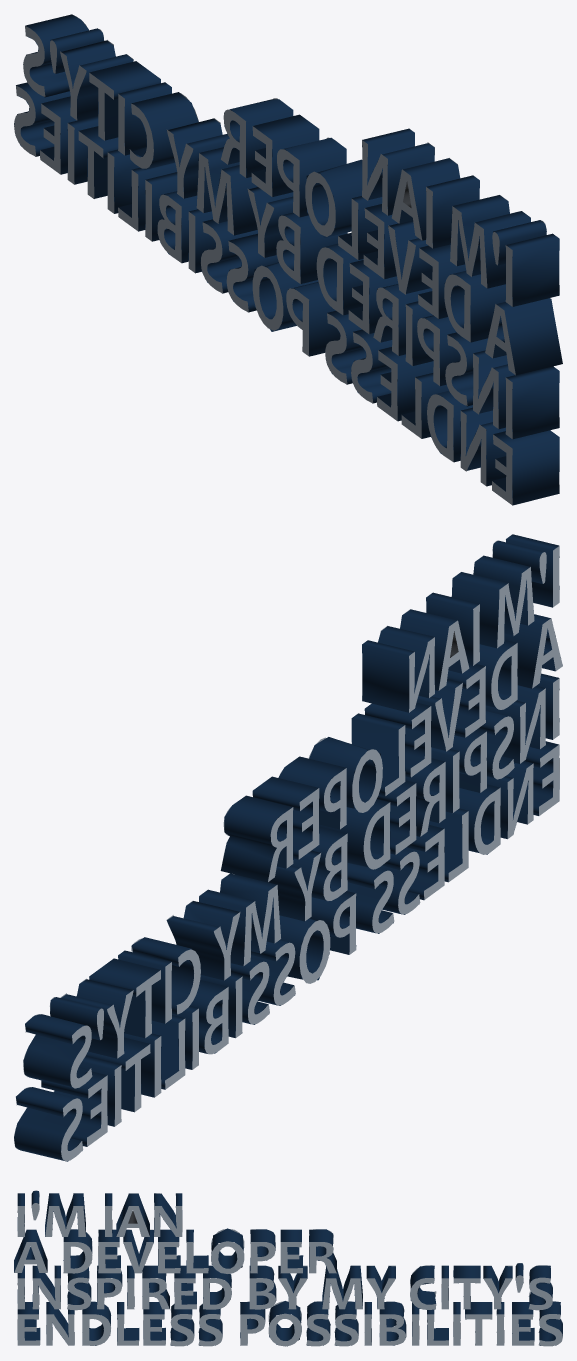
The model's file is Letters.glb.
The picture shows the model from 3 angles, top to bottom: view 1: azimuth 30°, elevation 25°; view 2: azimuth 150°, elevation 25°; view 3: azimuth 270°, elevation 25°; orthographic projection. The views are drawn at different scales.
Visible parts, largest first — view 1: LETTER_G, LETTER_C, LETTER_GG, LETTER_Y, LETTER_F, LETTER_A, LETTER_P, LETTER_L, LETTER_AA, LETTER_H, LETTER_O, LETTER_N (+42 smaller); view 2: LETTER_F, LETTER_O, LETTER_C, LETTER_Y, LETTER_ZZ, LETTER_FF, LETTER_Z, LETTER_L, LETTER_N, LETTER_V, LETTER_K, LETTER_M (+42 smaller); view 3: LETTER_C, LETTER_Y, LETTER_L, LETTER_OO, LETTER_SS, LETTER_W, LETTER_H, LETTER_O, LETTER_II, LETTER_FF, LETTER_G, LETTER_E (+42 smaller).
Boxes of the visible parts, x1,y1,x2,y2 form: LETTER_G: (485, 298, 562, 375); LETTER_C: (450, 195, 530, 288); LETTER_GG: (492, 430, 559, 505); LETTER_Y: (196, 147, 257, 235); LETTER_F: (362, 128, 434, 215); LETTER_A: (505, 233, 559, 306); LETTER_P: (505, 366, 559, 439); LETTER_L: (305, 159, 362, 237); LETTER_AA: (129, 92, 198, 169); LETTER_H: (444, 271, 505, 342); LETTER_O: (221, 98, 293, 178); LETTER_N: (251, 114, 319, 197); LETTER_F: (362, 625, 434, 712); LETTER_O: (220, 795, 293, 882); LETTER_C: (451, 555, 534, 648); LETTER_Y: (199, 873, 281, 966); LETTER_ZZ: (14, 1087, 83, 1161); LETTER_FF: (23, 1014, 92, 1088); LETTER_Z: (166, 900, 240, 980); LETTER_L: (308, 737, 382, 812); LETTER_N: (252, 776, 319, 859); LETTER_V: (319, 799, 390, 869); LETTER_K: (351, 713, 405, 796); LETTER_M: (278, 756, 346, 829); LETTER_C: (45, 1193, 85, 1236); LETTER_Y: (322, 1265, 362, 1309); LETTER_L: (211, 1228, 244, 1273); LETTER_OO: (268, 1301, 301, 1346); LETTER_SS: (379, 1301, 406, 1345); LETTER_W: (249, 1265, 276, 1309); LETTER_H: (63, 1229, 92, 1273); LETTER_O: (309, 1229, 336, 1273); LETTER_II: (82, 1301, 111, 1345); LETTER_FF: (528, 1265, 552, 1310); LETTER_G: (14, 1229, 47, 1272); LETTER_E: (116, 1193, 149, 1236).
Bounding box in the file's own units: 0.8112 × 4.34 × 15.
